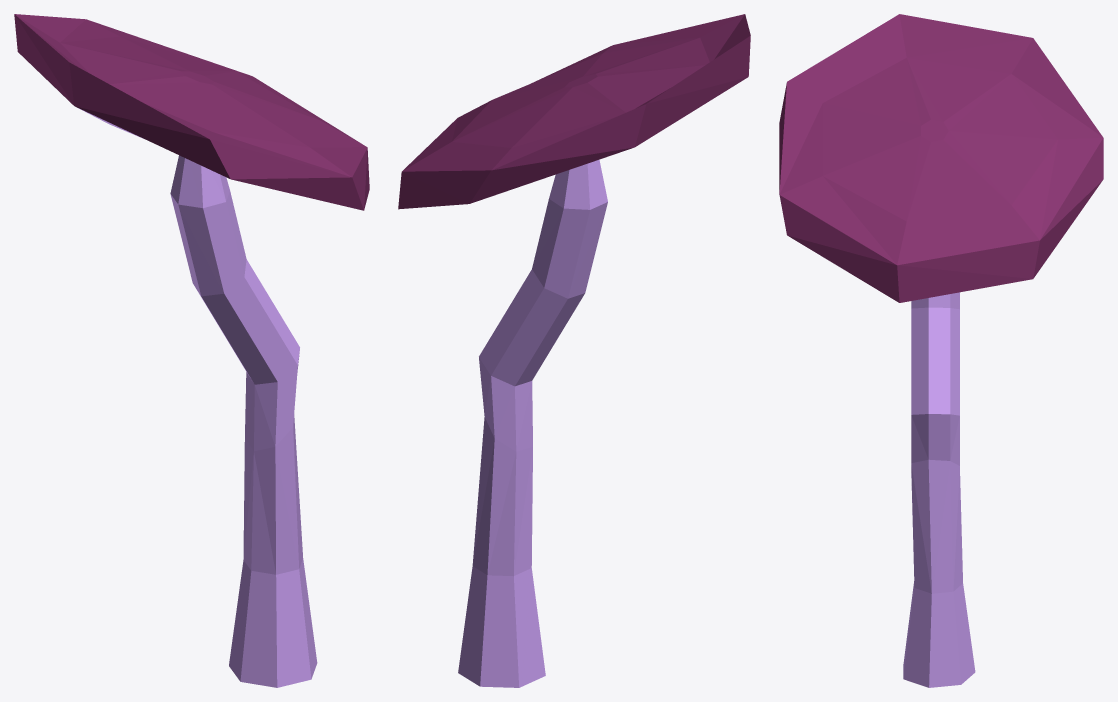
The model's file is Fungus3.fbx.
3 views of the same model, side by side, from view 1: azimuth 30°, elevation 25°; view 2: azimuth 150°, elevation 25°; view 3: azimuth 270°, elevation 25° (orthographic). The views are drawn at different scales.
Parts seen in each view (by area): view 1: Cylinder; view 2: Cylinder; view 3: Cylinder.
Boxes of the visible parts, x1,y1,x2,y2 form: Cylinder: [14, 14, 369, 687]; Cylinder: [398, 14, 750, 687]; Cylinder: [779, 14, 1103, 687].
Size of the model in its own units: 168 by 362 by 188.
